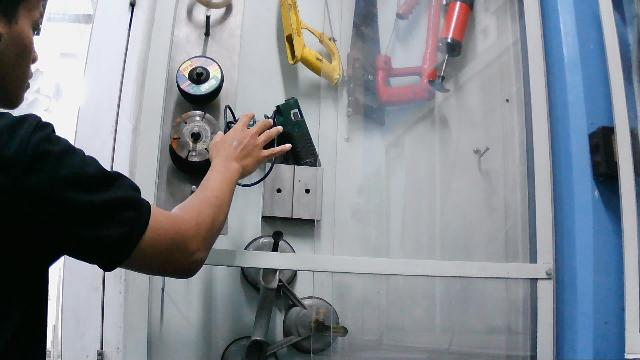gun_lem: (218, 94, 325, 175)
